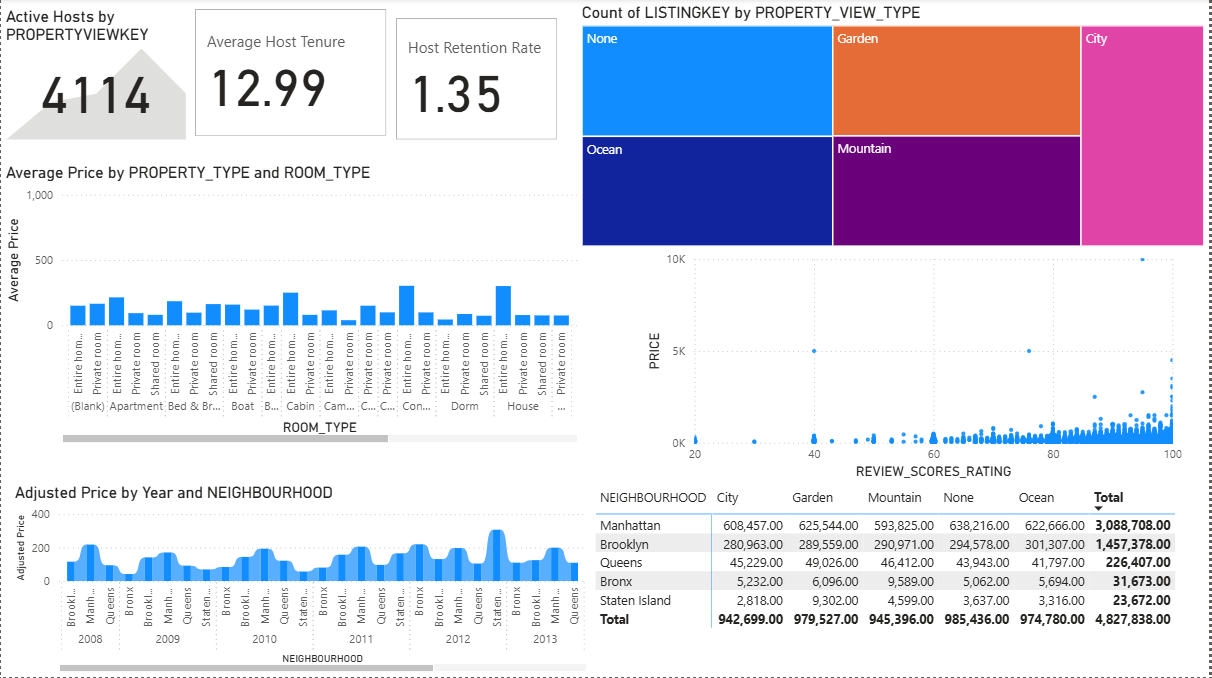

The page's visual inventory and layout, read from the dashboard file:
{"tool":"powerbi","page":{"name":"Host & Property Performance","canvas":[1280,720],"ordinal":1},"visuals":[{"type":"clusteredColumnChart","fields":{"Y":["Metrics.Average Price"],"Category":["DIMPROPERTY.PROPERTY_TYPE","DIMPROPERTY.ROOM_TYPE"]},"box":[0,175.3,615.4,300.8],"z":0},{"type":"scatterChart","fields":{"Size":["CountNonNull(FACTLISTINGS.NUMBER_OF_REVIEWS)"],"X":["FACTLISTINGS.REVIEW_SCORES_RATING"],"Y":["FACTLISTINGS.PRICE"]},"box":[679.2,243,577.6,270.9],"z":1},{"type":"pivotTable","fields":{"Values":["Sum(FACTLISTINGS.PRICE)"],"Rows":["DIMLOCATION.NEIGHBOURHOOD"],"Columns":["DIMPROPERTYVIEW.PROPERTY_VIEW_TYPE"]},"box":[625.4,513.9,655.3,205.1],"z":2},{"type":"ribbonChart","fields":{"Y":["BRIDGEHOSTLANGUAGE.Adjusted Price"],"Category":["DIMHOST.HOST_SINCE.Variation.Date Hierarchy.Year","DIMLOCATION.NEIGHBOURHOOD"]},"box":[10,513.9,615.4,205.1],"z":3},{"type":"kpi","fields":{"Indicator":["Metrics.Active Hosts"],"TrendLine":["DIMPROPERTY.PROPERTYVIEWKEY"]},"box":[0,10,201.2,145.4],"z":4},{"type":"cardVisual","fields":{"Data":["Metrics.Host Retention Rate"]},"box":[414.3,15.9,181.2,139.4],"z":5},{"type":"cardVisual","fields":{"Data":["Metrics.Average Host Tenure"]},"box":[201.2,6,213.1,145.4],"z":6},{"type":"treemap","fields":{"Group":["DIMPROPERTYVIEW.PROPERTY_VIEW_TYPE"],"Values":["Count(FACTLISTINGS.LISTINGKEY)"]},"box":[611.5,4,669.2,262.9],"z":7}]}

Visuals, with their boxes in screenshot pixels (x1, y1, x2, y2), scaled from the page's 1280x720 canvas onto the 1212x678 screenshot:
clusteredColumnChart - Metrics.Average Price x DIMPROPERTY.PROPERTY_TYPE: [0, 165, 583, 448]
scatterChart - CountNonNull(FACTLISTINGS.NUMBER_OF_REVIEWS) x FACTLISTINGS.REVIEW_SCORES_RATING: [643, 229, 1190, 484]
pivotTable - Sum(FACTLISTINGS.PRICE) x DIMLOCATION.NEIGHBOURHOOD: [592, 484, 1211, 677]
ribbonChart - BRIDGEHOSTLANGUAGE.Adjusted Price x DIMHOST.HOST_SINCE.Variation.Date Hierarchy.Year: [9, 484, 592, 677]
kpi - Metrics.Active Hosts x DIMPROPERTY.PROPERTYVIEWKEY: [0, 9, 191, 146]
cardVisual - Metrics.Host Retention Rate: [392, 15, 564, 146]
cardVisual - Metrics.Average Host Tenure: [191, 6, 392, 143]
treemap - DIMPROPERTYVIEW.PROPERTY_VIEW_TYPE x Count(FACTLISTINGS.LISTINGKEY): [579, 4, 1211, 251]
